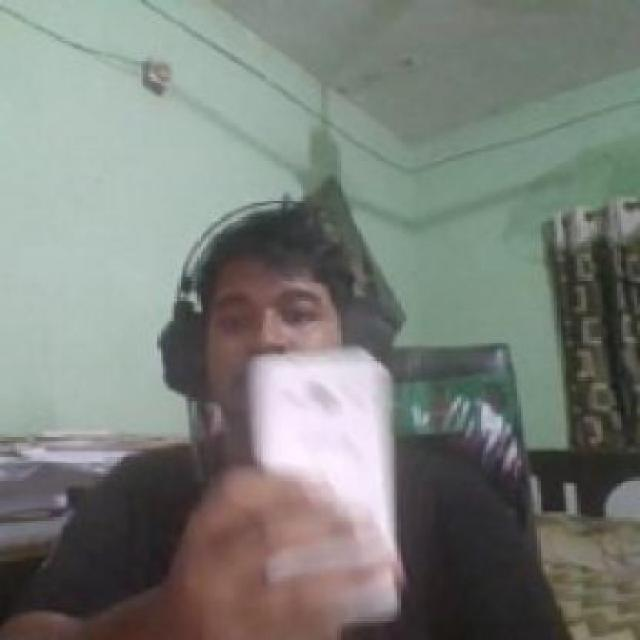Phone: (248, 348, 405, 624)
